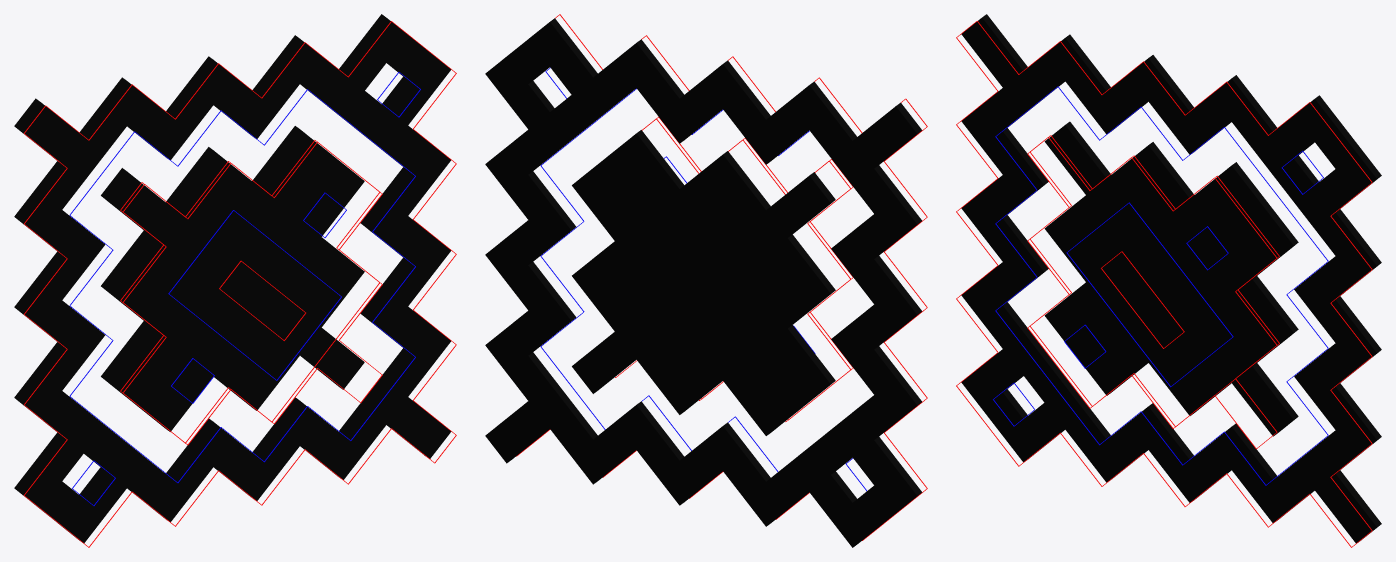
File: debug4.glb
3 views of the same model, side by side, from view 1: azimuth 30°, elevation 25°; view 2: azimuth 150°, elevation 25°; view 3: azimuth 330°, elevation 25° (orthographic). The views are drawn at different scales.
Bounding box in the file's own units: 1 × 1 × 0.1306.
